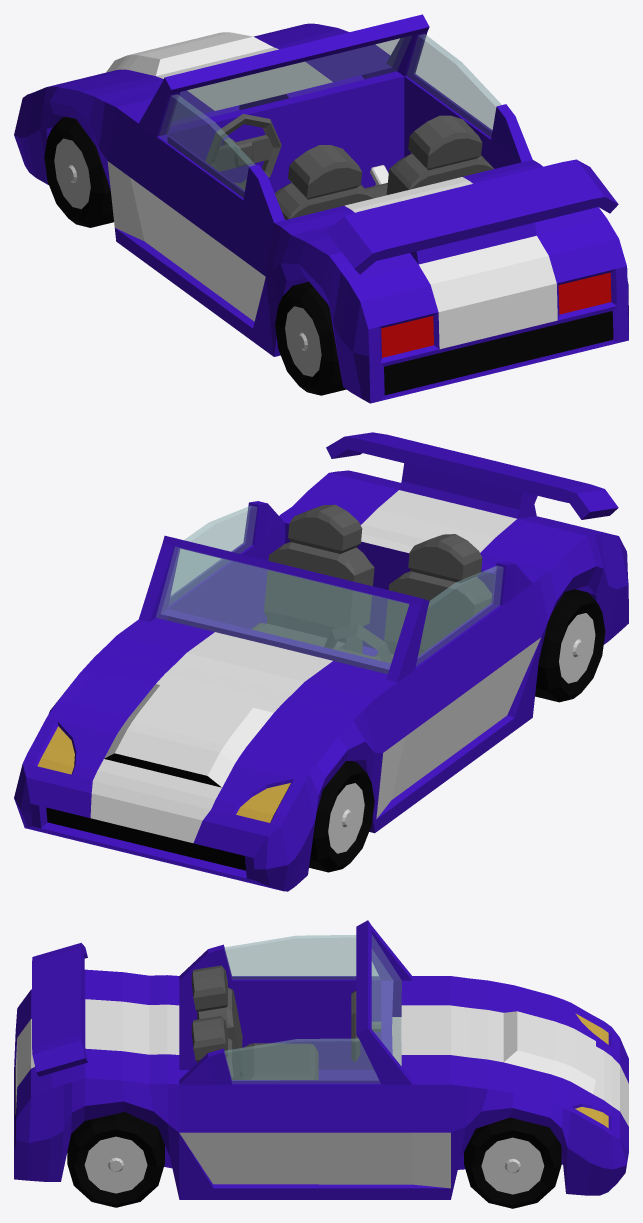
The model's file is SportCar.fbx.
3 views of the same model, one above another, from view 1: azimuth 30°, elevation 25°; view 2: azimuth 150°, elevation 25°; view 3: azimuth 270°, elevation 25° (orthographic). The views are drawn at different scales.
Parts seen in each view (by area): view 1: Car, Chair1, Wheel; view 2: Car, Chair1, Wheel; view 3: Car, Chair1, Wheel.
Part boxes in pixels (<box>): Car: <box>14,14,628,403</box>; Chair1: <box>274,115,493,219</box>; Wheel: <box>205,114,281,190</box>; Car: <box>14,432,628,891</box>; Chair1: <box>251,504,491,658</box>; Wheel: <box>324,624,392,663</box>; Car: <box>14,920,628,1208</box>; Chair1: <box>191,965,318,1079</box>; Wheel: <box>351,990,381,1061</box>.
Bounding box in the file's own units: 168 × 118 × 368.
